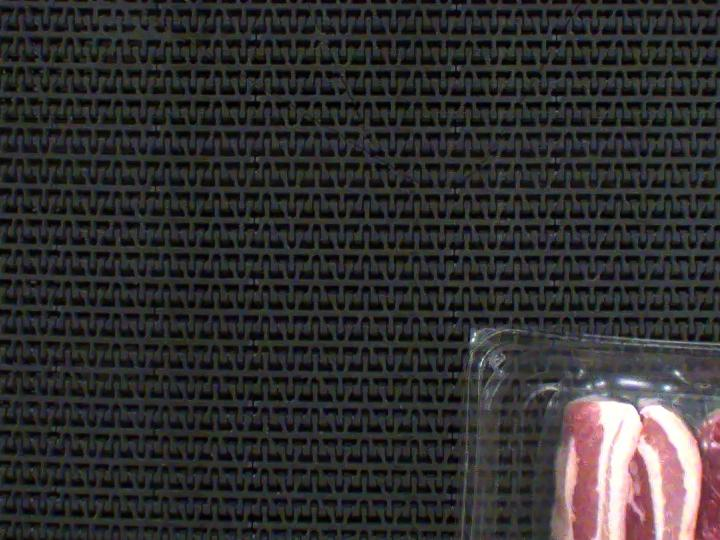unsealed: (523, 358, 720, 540)
